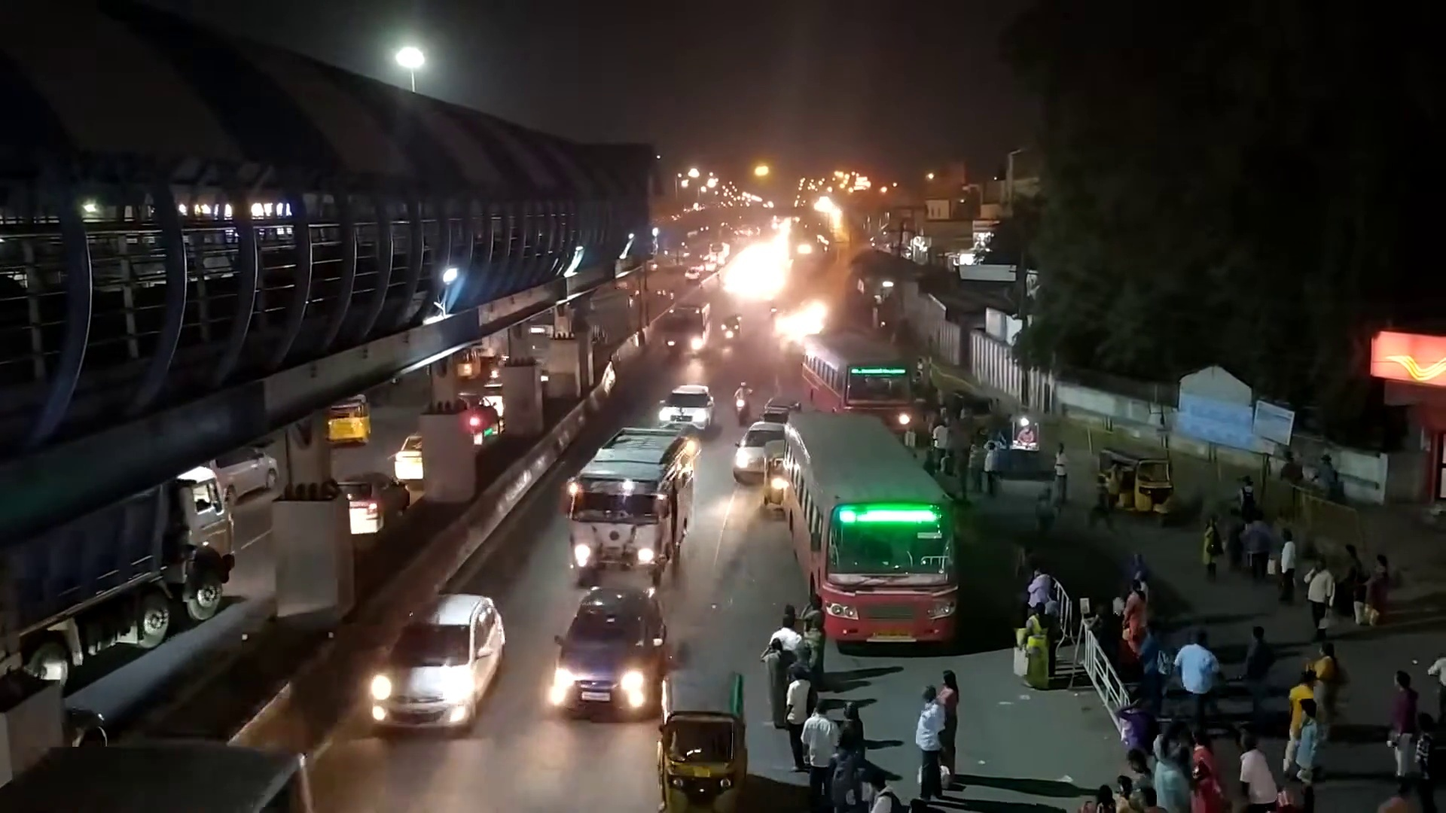driver_helmet: (733, 379, 754, 407)
motorcycle: (732, 380, 754, 427)
